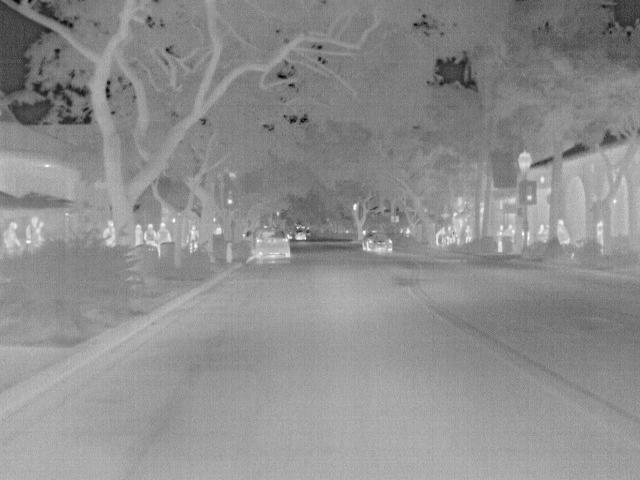car: (255, 229, 292, 259), (362, 229, 395, 253), (291, 227, 308, 242)
person: (26, 216, 46, 248), (2, 222, 23, 250), (555, 218, 574, 246), (143, 220, 159, 248), (101, 220, 118, 246), (156, 219, 173, 245), (185, 223, 199, 254), (496, 224, 508, 253), (133, 221, 146, 246), (464, 223, 477, 245)
